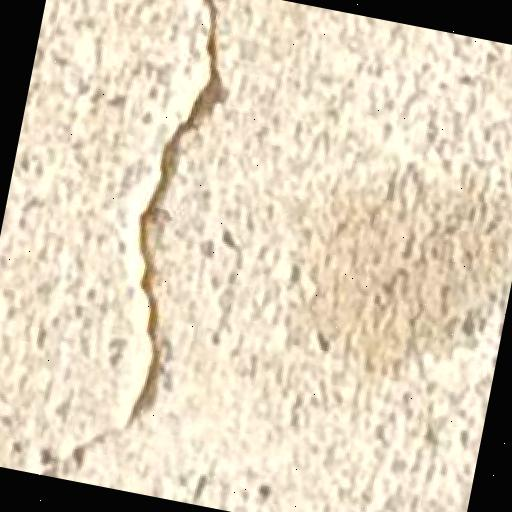spalling: (27, 0, 250, 490)
